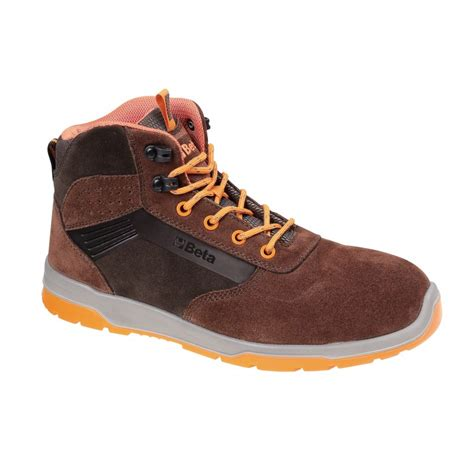gamuza: (45, 126, 431, 345)
